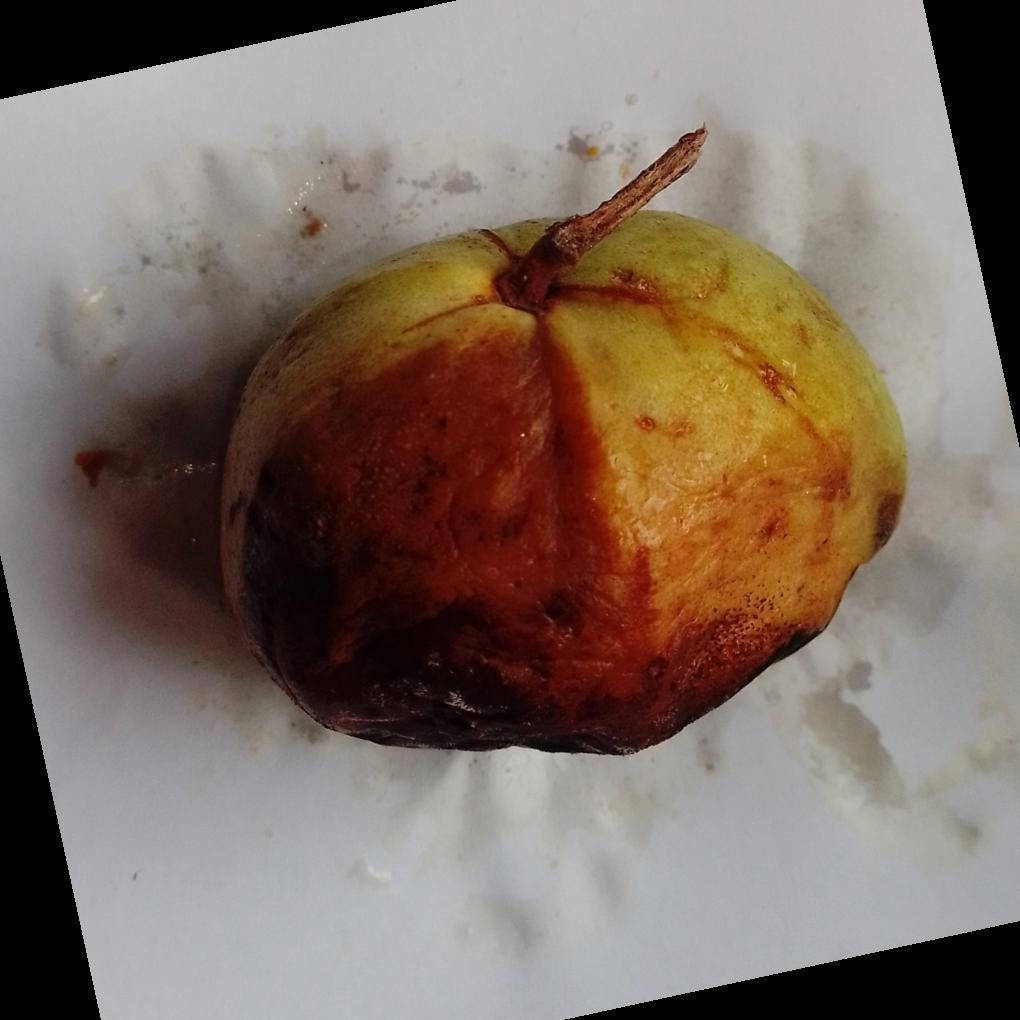FreshOrange: (216, 131, 908, 760)
